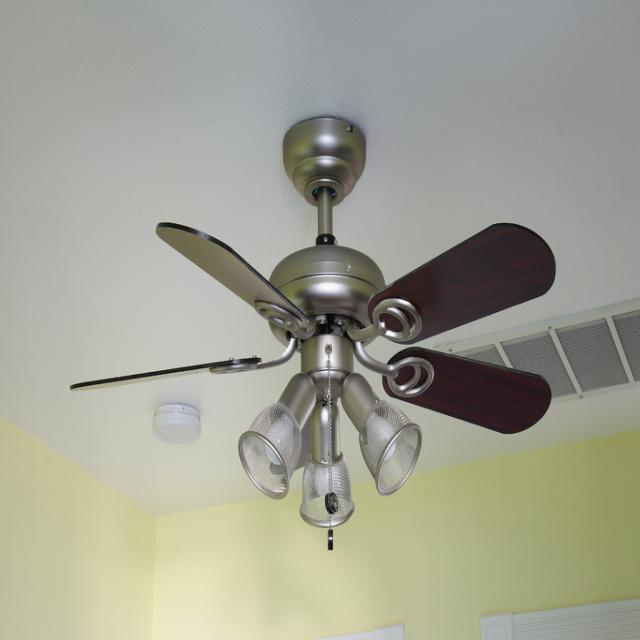bulb_off: (362, 421, 412, 460), (263, 416, 300, 458), (309, 459, 342, 500)
fan_off: (70, 124, 556, 434)
